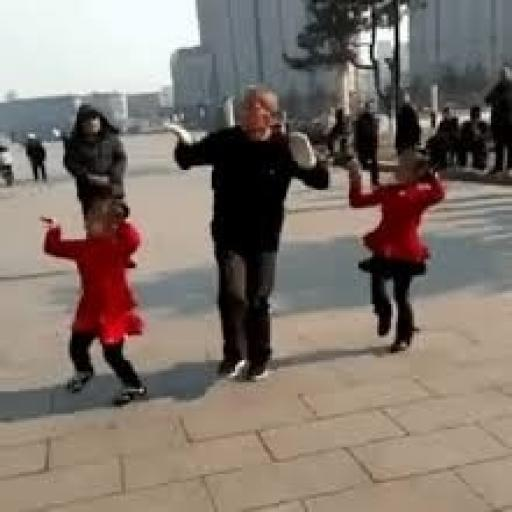dancing: (165, 82, 333, 384), (35, 185, 154, 407)
